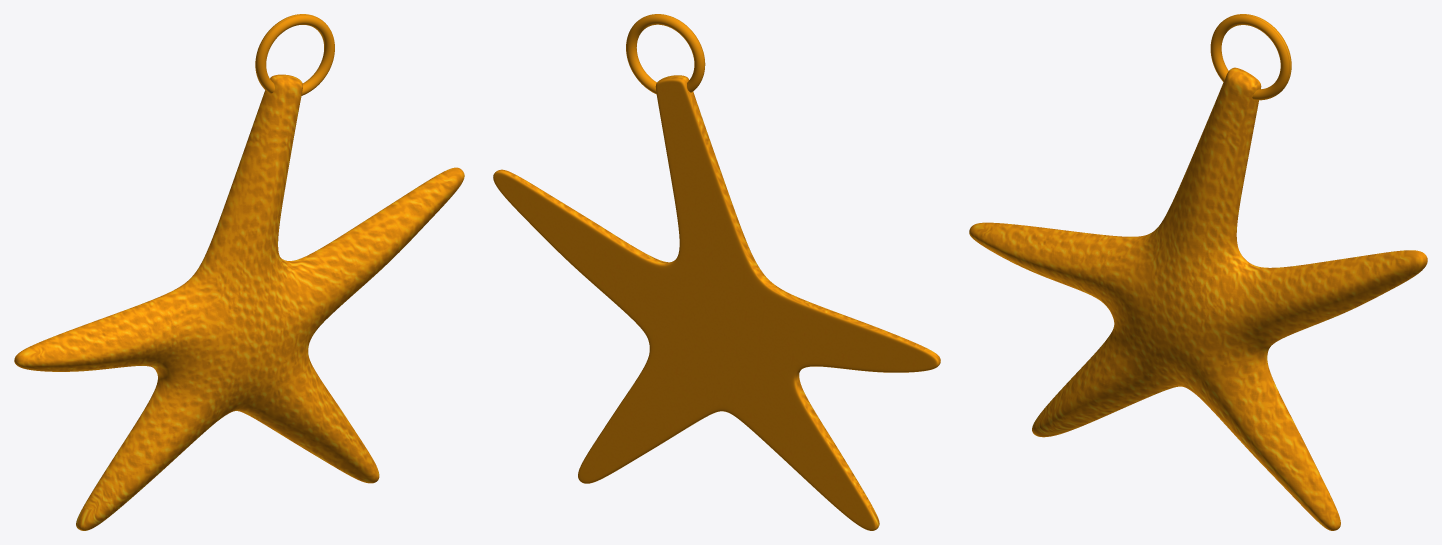
The model's file is 11793_pendant_v2_L3.obj.
3 renders of one model, left to right at view 1: azimuth 30°, elevation 25°; view 2: azimuth 150°, elevation 25°; view 3: azimuth 330°, elevation 25°, orthographic. The views are drawn at different scales.
Parts seen in each view (by area): view 1: pendant; view 2: pendant; view 3: pendant.
Part boxes in pixels (<box>): pendant: <box>14,14,464,530</box>; pendant: <box>493,14,940,530</box>; pendant: <box>969,14,1427,530</box>.
Bounding box in the file's own units: 3.14 × 3.27 × 0.2752.
Materials: 1 (1 with a texture image).
